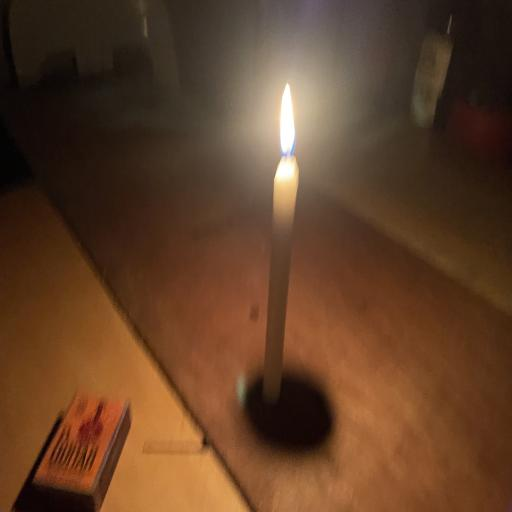fire: (263, 66, 314, 169)
